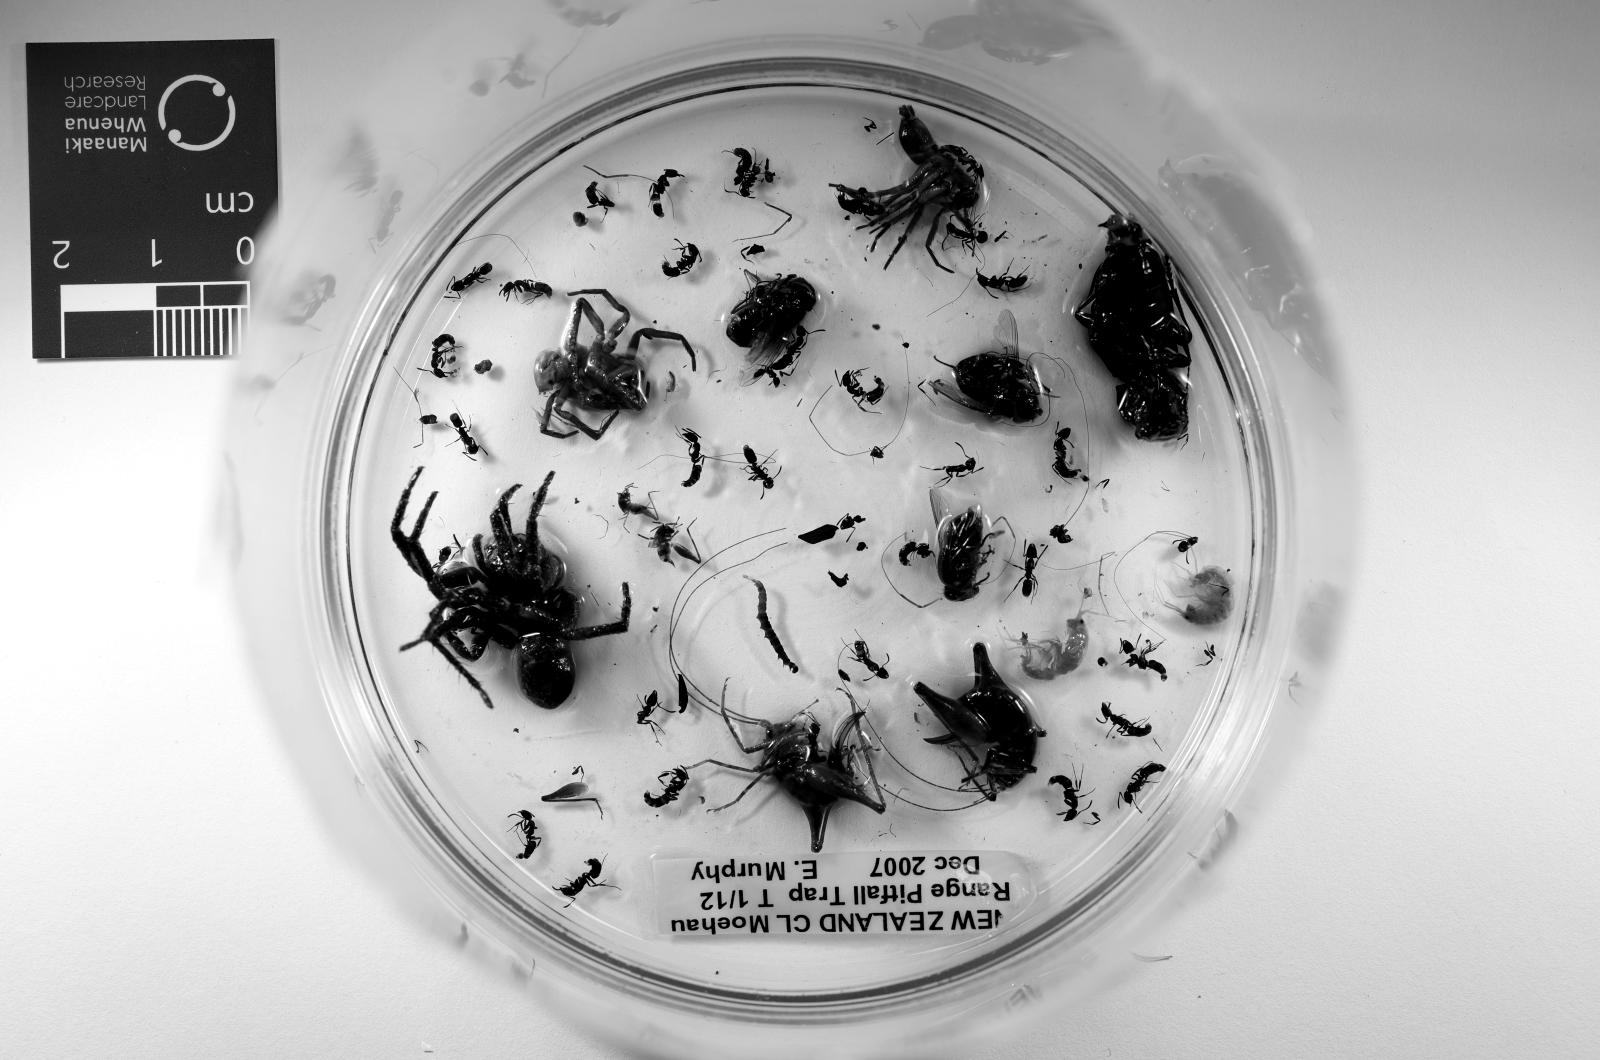amphipoda: (1010, 608, 1088, 680), (1166, 565, 1235, 627)
araneae: (390, 468, 631, 707), (535, 289, 697, 441), (831, 105, 984, 267)
carabidae: (1075, 214, 1191, 441)
coleoptera_larva: (747, 577, 799, 674)
diptera: (931, 310, 1047, 422), (725, 277, 818, 363), (928, 487, 997, 600)
formicidae: (553, 857, 616, 900), (765, 327, 809, 376), (643, 767, 691, 810), (1119, 764, 1166, 804), (1054, 428, 1088, 481), (841, 369, 885, 409), (1103, 702, 1153, 736), (447, 260, 491, 298), (650, 168, 681, 218), (744, 444, 775, 493), (510, 810, 540, 860), (947, 220, 991, 254), (1018, 543, 1044, 600), (681, 428, 706, 487), (1050, 776, 1081, 823), (974, 267, 1028, 295), (451, 413, 481, 459), (853, 640, 887, 680), (500, 279, 553, 304), (662, 243, 700, 277), (934, 457, 982, 481), (432, 332, 456, 379), (637, 692, 660, 733), (584, 183, 616, 211), (896, 541, 931, 565)
orthoptera: (704, 699, 885, 854), (915, 642, 1047, 801)
